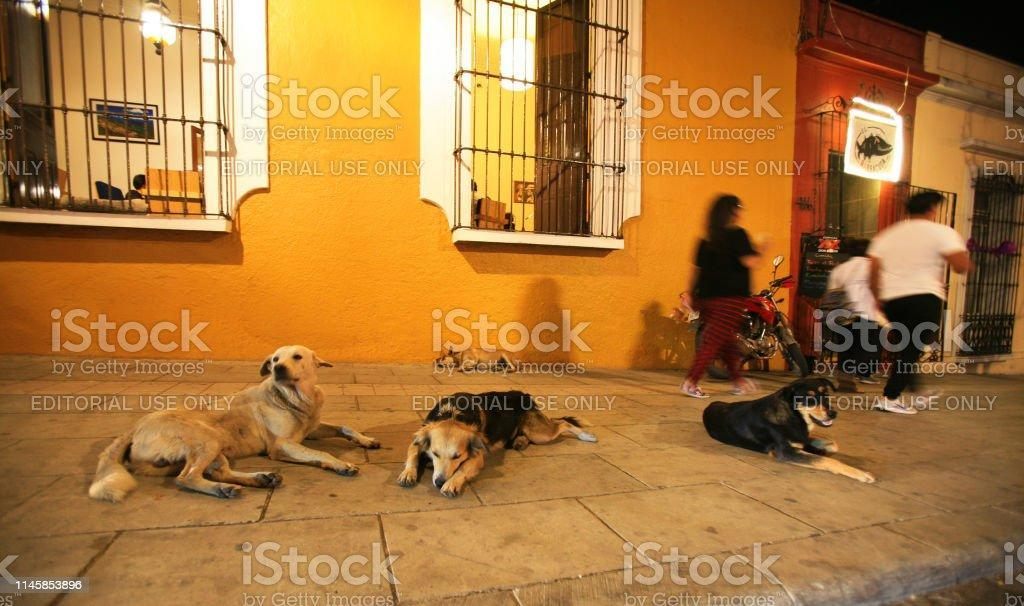normal_dogs: (96, 314, 384, 516), (398, 368, 603, 514), (704, 379, 894, 488), (422, 328, 539, 386)
